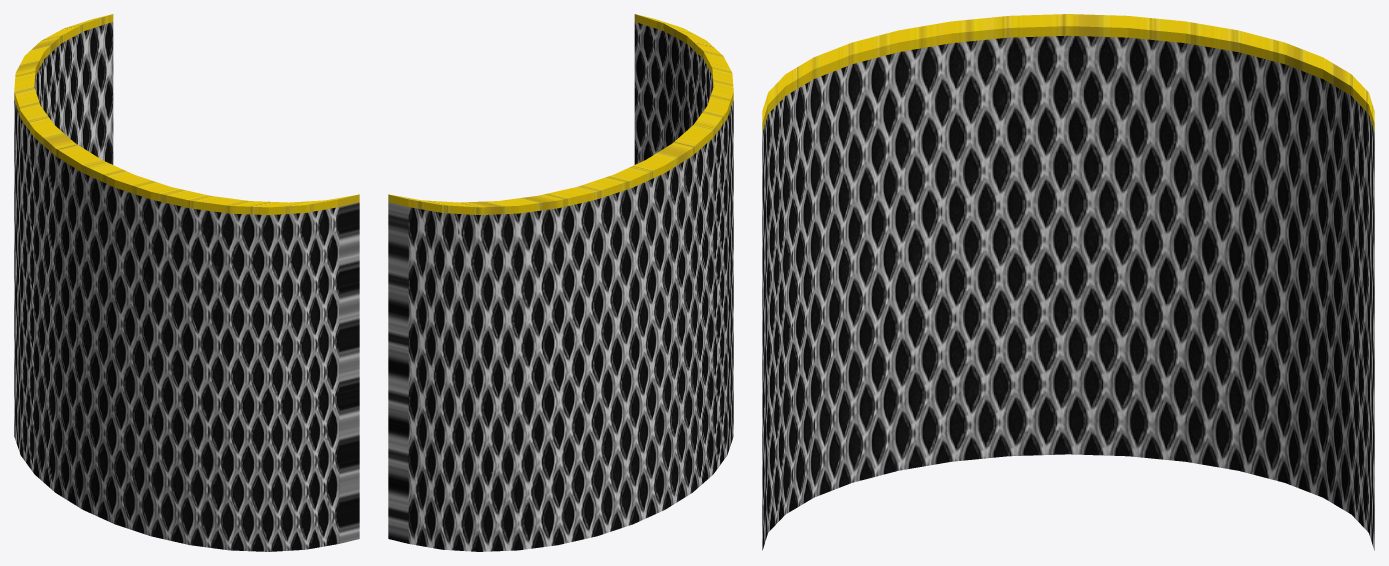
File: WallCurve.fbx
The picture shows the model from 3 angles, left to right: view 1: azimuth 30°, elevation 25°; view 2: azimuth 150°, elevation 25°; view 3: azimuth 270°, elevation 25°; orthographic projection. The views are drawn at different scales.
Parts seen in each view (by area): view 1: 円柱; view 2: 円柱; view 3: 円柱.
Boxes of the visible parts, x1,y1,x2,y2 form: 円柱: [14, 14, 359, 551]; 円柱: [388, 14, 733, 551]; 円柱: [762, 14, 1374, 550].
Size of the model in its own units: 112 by 205 by 265.
Materials: 2 (2 with a texture image).
